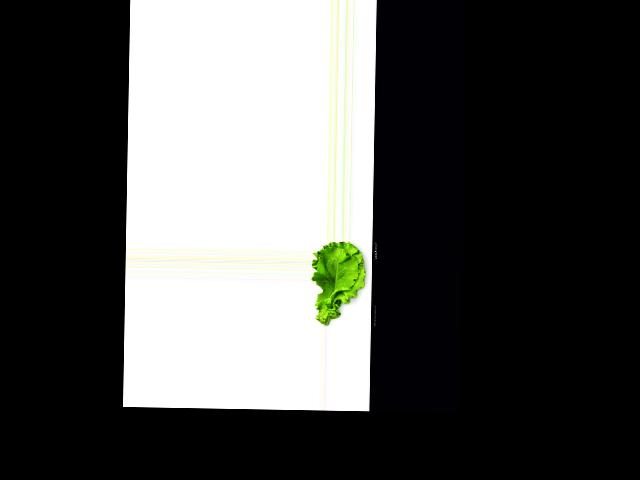lettuce: (310, 241, 370, 324)
